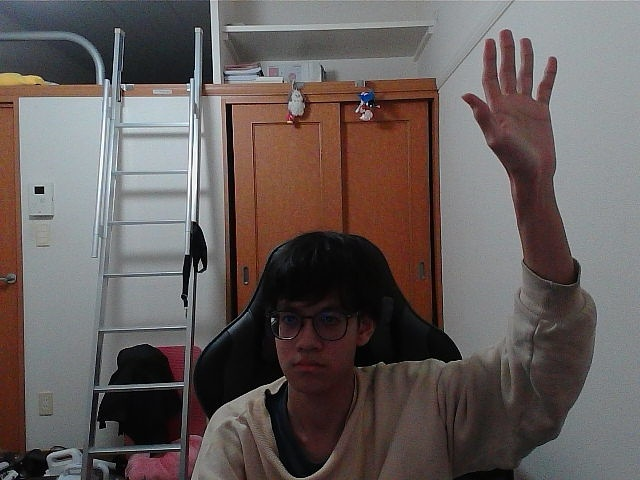open_palm: (471, 36, 552, 165)
